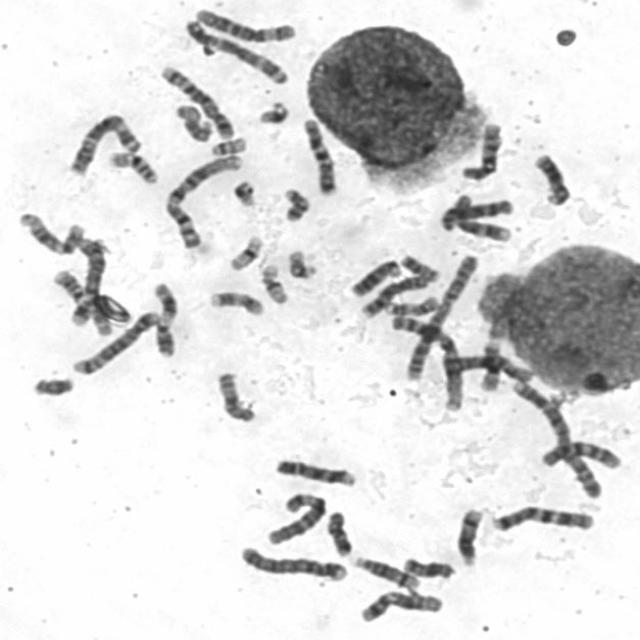A1: (158, 149, 246, 251), (385, 309, 465, 414)
A2: (506, 375, 606, 501), (398, 249, 482, 383)
A3: (180, 13, 292, 86), (63, 108, 143, 177)
B4: (234, 541, 350, 583), (68, 234, 110, 332)
B5: (154, 60, 237, 141), (66, 306, 162, 376)
C10: (455, 118, 504, 182), (535, 437, 624, 471)
C11: (47, 265, 115, 336), (147, 278, 180, 358)
C12: (354, 585, 445, 625), (12, 207, 86, 256)
C6: (190, 2, 299, 44), (261, 488, 329, 547)
C7: (297, 113, 340, 197), (487, 501, 597, 533)
C8: (356, 270, 433, 320), (435, 194, 516, 233)
C9: (449, 190, 515, 247), (270, 454, 358, 488)
D13: (345, 254, 404, 298), (528, 149, 572, 207)
D14: (347, 551, 422, 591), (451, 503, 486, 568)
D15: (212, 367, 258, 424), (398, 556, 460, 585)
E16: (103, 147, 160, 186), (475, 334, 505, 393)
E17: (204, 286, 267, 318), (380, 292, 441, 318)
E18: (170, 99, 214, 143), (322, 506, 354, 557)
F19: (223, 231, 266, 272), (255, 259, 291, 305)
F20: (395, 249, 441, 282), (278, 183, 312, 224)
G21: (252, 96, 291, 127), (228, 175, 258, 209)
G22: (278, 247, 320, 280), (206, 133, 249, 157)
X: (435, 349, 536, 384)
Y: (26, 372, 76, 397)
